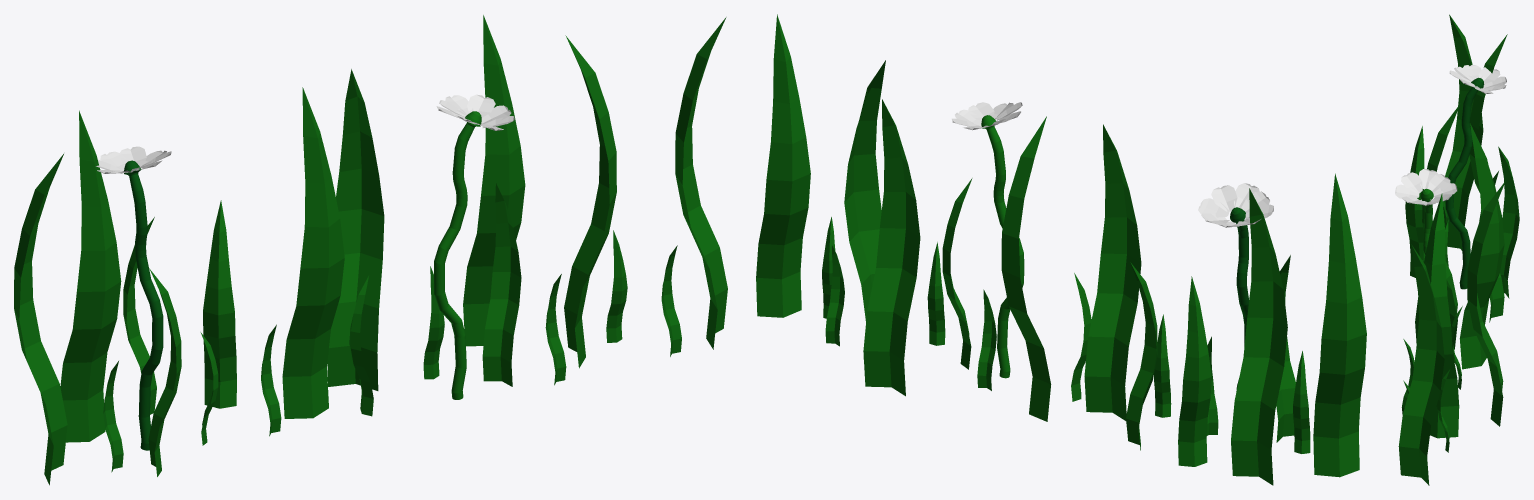
File: Herbe.fbx
3 renders of one model, left to right at view 1: azimuth 30°, elevation 25°; view 2: azimuth 150°, elevation 25°; view 3: azimuth 270°, elevation 25°, orthographic. The views are drawn at different scales.
Visible parts, largest first — view 1: Plane, Plane.002, Plane.033, Plane.034, Plane.019, Plane.006, Plane.018, Plane.001, Plane.005, Cylinder, Cylinder.001, Plane.004 (+8 smaller); view 2: Plane.019, Plane.018, Plane.033, Plane.034, Plane, Plane.006, Plane.002, Plane.020, Plane.001, Cylinder, Plane.005, Plane.004 (+8 smaller); view 3: Plane.018, Plane.002, Plane.006, Plane.034, Plane.019, Cylinder.001, Plane.020, Plane.004, Plane, Plane.033, Plane.001, Cylinder (+11 smaller).
Part boxes in pixels (<box>): Plane: <box>282,87,344,418</box>; Plane.002: <box>327,69,384,390</box>; Plane.033: <box>60,110,121,442</box>; Plane.034: <box>463,15,525,346</box>; Plane.019: <box>14,154,67,485</box>; Plane.006: <box>564,35,616,368</box>; Plane.018: <box>675,17,727,349</box>; Plane.001: <box>203,200,236,408</box>; Plane.005: <box>482,183,521,386</box>; Cylinder: <box>434,111,481,399</box>; Cylinder.001: <box>124,160,163,450</box>; Plane.004: <box>148,268,181,476</box>; Plane.019: <box>1313,173,1366,477</box>; Plane.018: <box>756,14,810,317</box>; Plane.033: <box>1231,188,1287,485</box>; Plane.034: <box>863,99,920,396</box>; Plane: <box>1084,124,1141,420</box>; Plane.006: <box>844,60,885,359</box>; Plane.002: <box>1001,116,1051,421</box>; Plane.020: <box>1178,276,1211,466</box>; Plane.001: <box>1126,262,1157,450</box>; Cylinder: <box>981,115,1024,378</box>; Plane.005: <box>942,178,972,369</box>; Plane.004: <box>1276,255,1295,442</box>; Plane.018: <box>1398,244,1444,485</box>; Plane.002: <box>1459,123,1504,369</box>; Plane.006: <box>1415,193,1459,438</box>; Plane.034: <box>1467,180,1505,426</box>; Plane.019: <box>1444,14,1483,250</box>; Cylinder.001: <box>1445,77,1483,289</box>; Plane.020: <box>1498,146,1519,298</box>; Plane.004: <box>1405,126,1424,277</box>; Plane: <box>1422,103,1460,349</box>; Plane.033: <box>1469,34,1507,193</box>; Plane.001: <box>1479,171,1504,322</box>; Cylinder: <box>1420,188,1433,262</box>.
Size of the model in its own units: 445 by 201 by 94.31.
